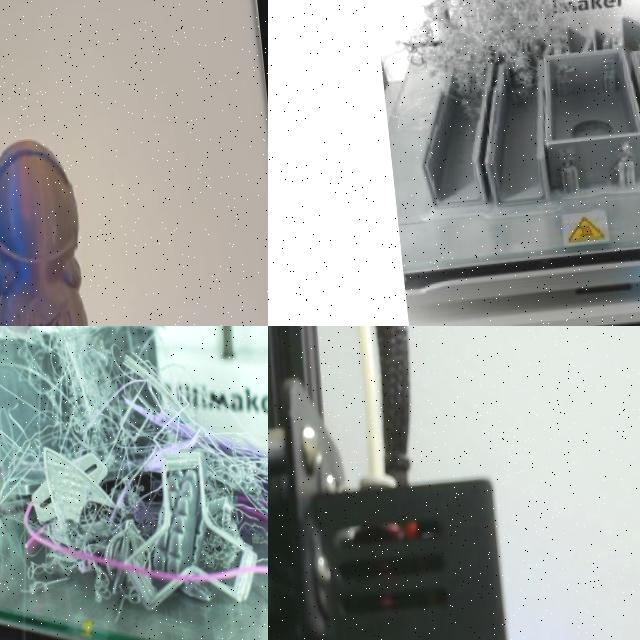spaghetti: (0, 326, 268, 640), (396, 0, 595, 97)
